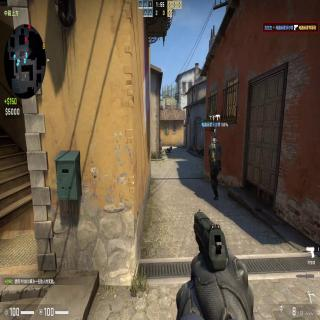CT-Body: (208, 135, 222, 198)
CT-Head: (212, 135, 218, 143)
